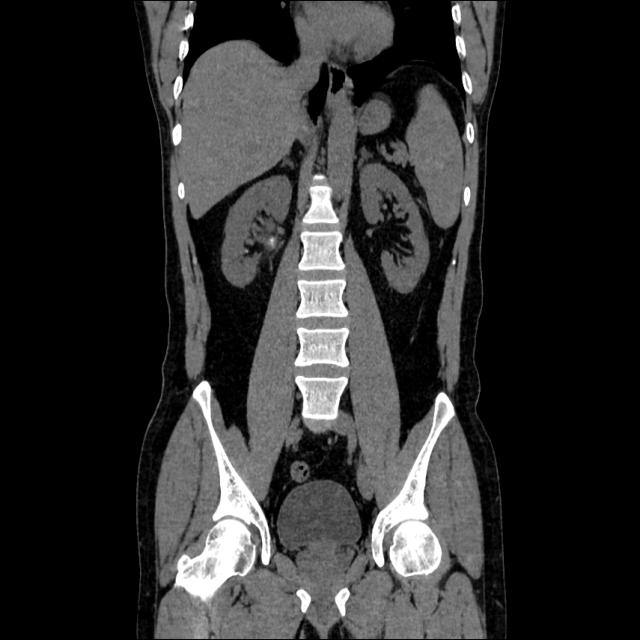kidneystone: (269, 235, 275, 244)
